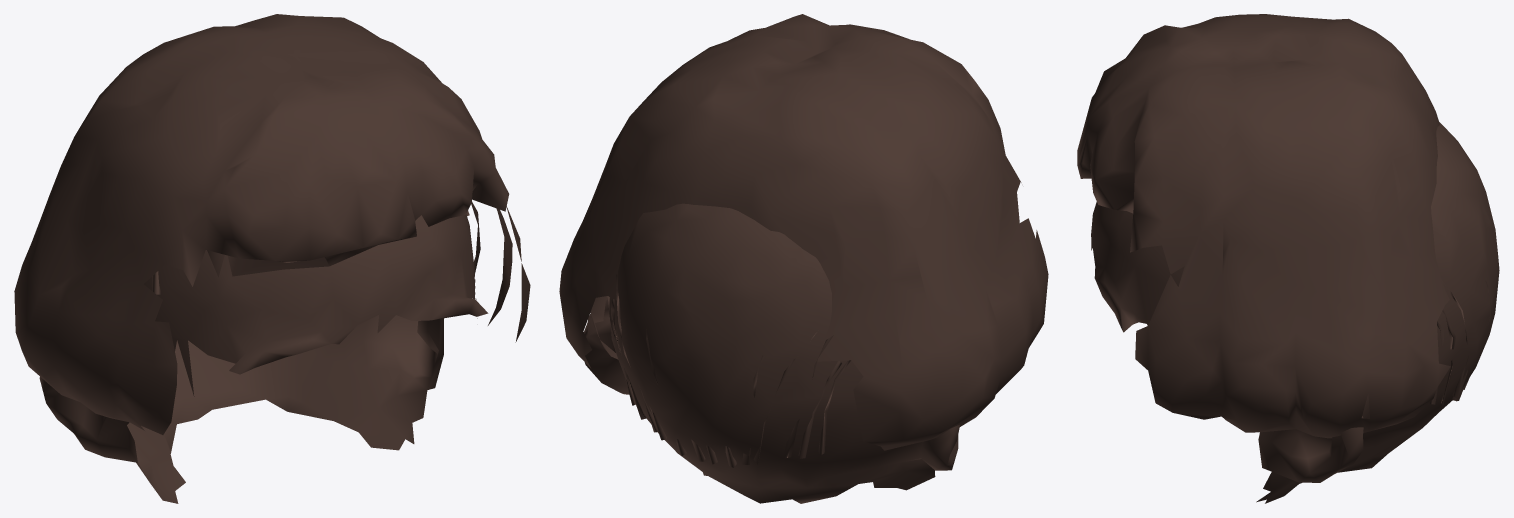
The model's file is blunt-bob.glb.
3 views of the same model, side by side, from view 1: azimuth 30°, elevation 25°; view 2: azimuth 150°, elevation 25°; view 3: azimuth 270°, elevation 25° (orthographic). The views are drawn at different scales.
Visible parts, largest first — view 1: Hair, HairScalp; view 2: Hair, HairScalp, HairPulledRootStrands; view 3: Hair, HairScalp, HairPulledRootStrands.
Part boxes in pixels (x1,y1,x2,y2): Hair: (14,14,530,434); HairScalp: (39,214,488,503); Hair: (559,14,1048,450); HairScalp: (583,203,959,503); HairPulledRootStrands: (607,274,850,467); Hair: (1077,14,1450,438); HairScalp: (1091,122,1499,503); HairPulledRootStrands: (1428,278,1492,405).
Bounding box in the file's own units: 0.527 × 0.4902 × 0.4571.
